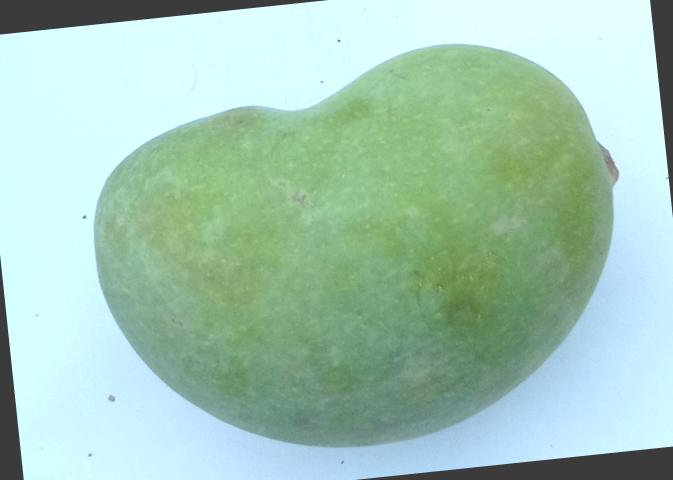Mango Unripe: (31, 4, 662, 470)
